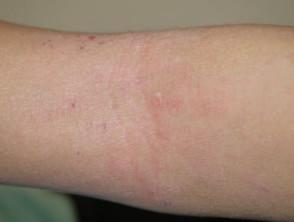Eczema: (145, 91, 189, 119), (99, 149, 137, 176), (138, 183, 165, 209), (124, 130, 153, 153), (110, 96, 133, 123), (142, 113, 168, 131), (89, 82, 114, 100), (190, 139, 212, 159), (107, 71, 132, 88), (196, 96, 217, 116), (171, 76, 199, 88), (130, 75, 148, 92), (150, 157, 168, 174), (155, 129, 176, 143), (257, 183, 273, 197), (73, 44, 89, 57), (140, 47, 155, 60), (181, 61, 194, 76), (67, 99, 84, 110), (96, 121, 110, 134), (45, 40, 58, 51), (88, 35, 102, 44)
